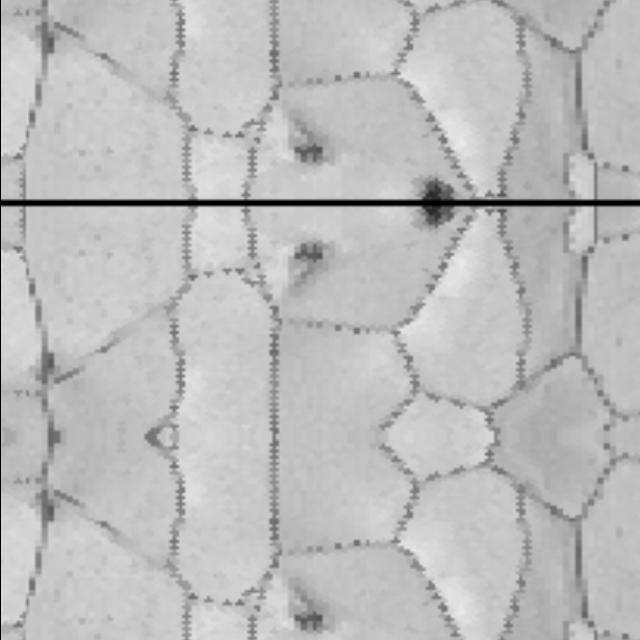good_void: (284, 240, 337, 302), (284, 574, 337, 636), (284, 106, 337, 167), (416, 207, 457, 229), (416, 179, 457, 200), (39, 349, 60, 383), (39, 493, 60, 527), (39, 25, 60, 59)
